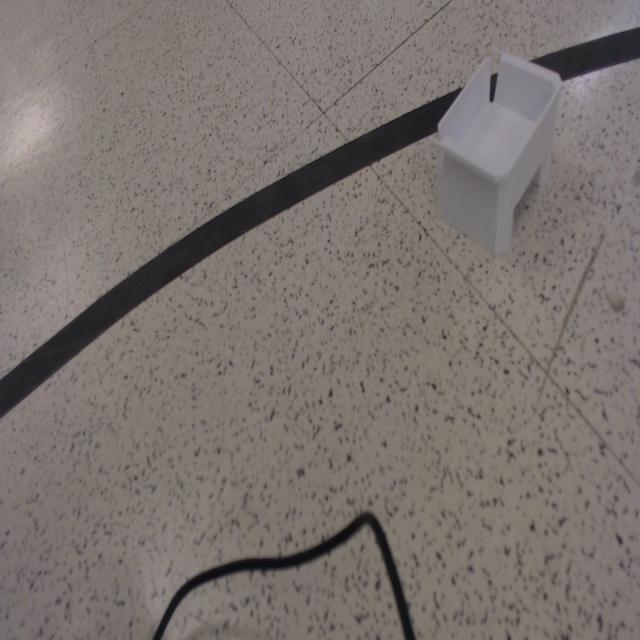wbox: (430, 47, 564, 258)
